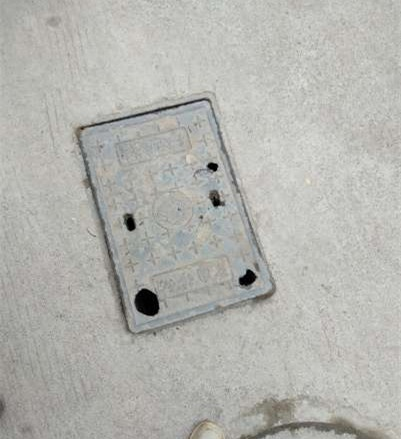broke: (69, 92, 280, 337)
